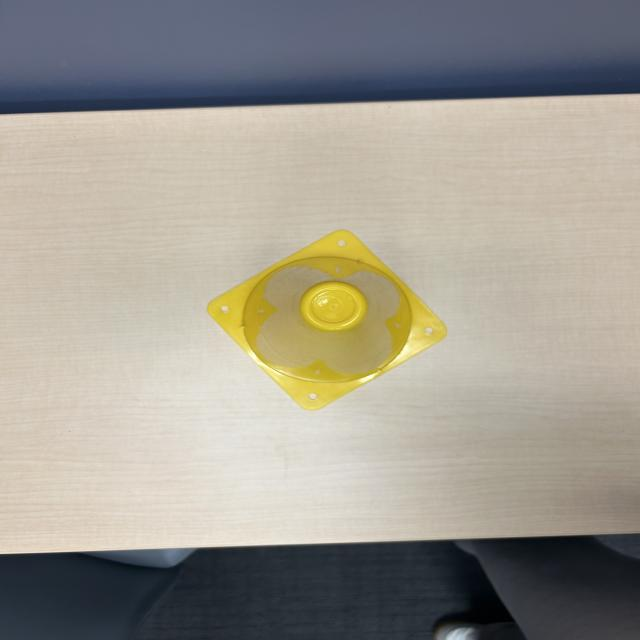yellow cone: (196, 225, 456, 412)
